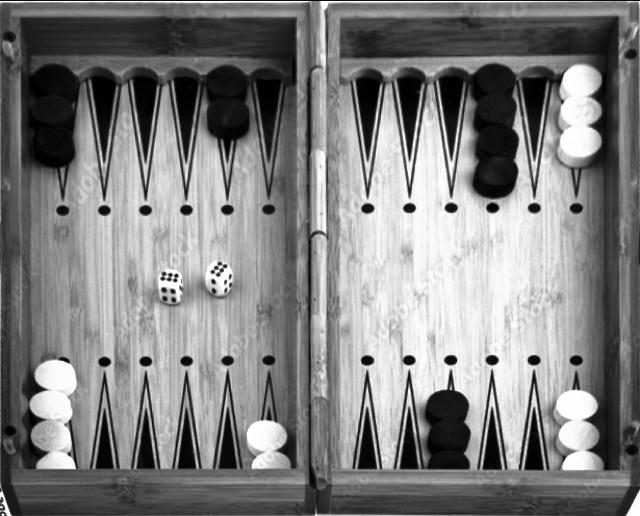bar: (287, 27, 345, 475)
board: (11, 12, 632, 481)
dark_p: (202, 96, 254, 141), (471, 153, 521, 199), (26, 92, 79, 131), (29, 124, 78, 166), (472, 120, 521, 161), (471, 60, 521, 98), (473, 90, 519, 130), (204, 63, 251, 102), (426, 416, 473, 454), (31, 63, 78, 100), (424, 387, 471, 423), (423, 450, 471, 469)
dice: (201, 256, 241, 299), (154, 266, 188, 306)
light_p: (554, 124, 606, 169), (29, 356, 83, 394), (556, 60, 608, 98), (552, 388, 601, 426), (241, 419, 294, 454), (554, 417, 601, 456), (25, 389, 76, 424), (29, 419, 76, 456), (556, 95, 608, 128), (244, 448, 293, 471), (31, 453, 82, 473), (558, 454, 613, 472)
